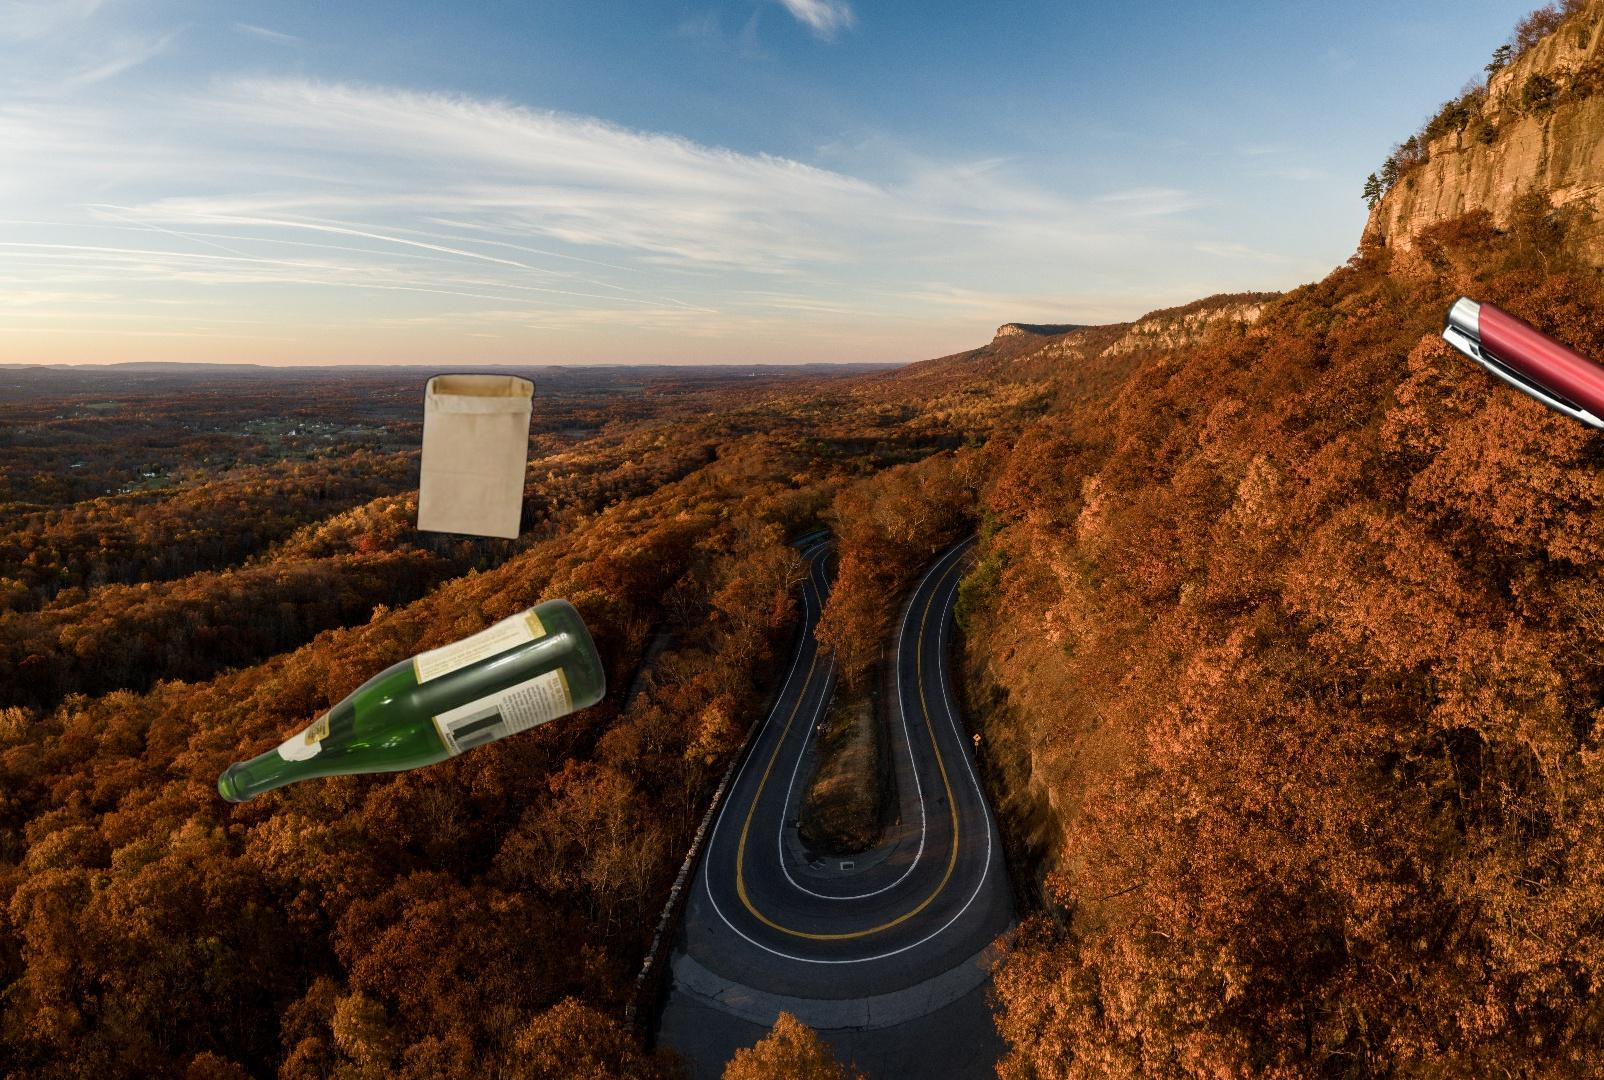glass: (213, 595, 611, 804)
paper-bag: (415, 370, 571, 604)
penholder: (1340, 289, 1604, 856)
